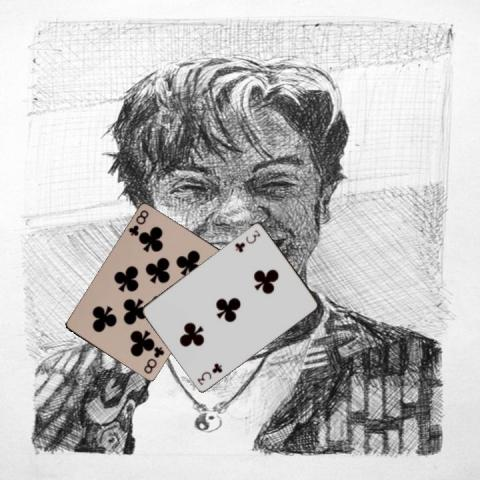3c: (232, 227, 262, 254), (194, 360, 224, 386)
8c: (141, 344, 166, 375), (125, 207, 150, 238)
